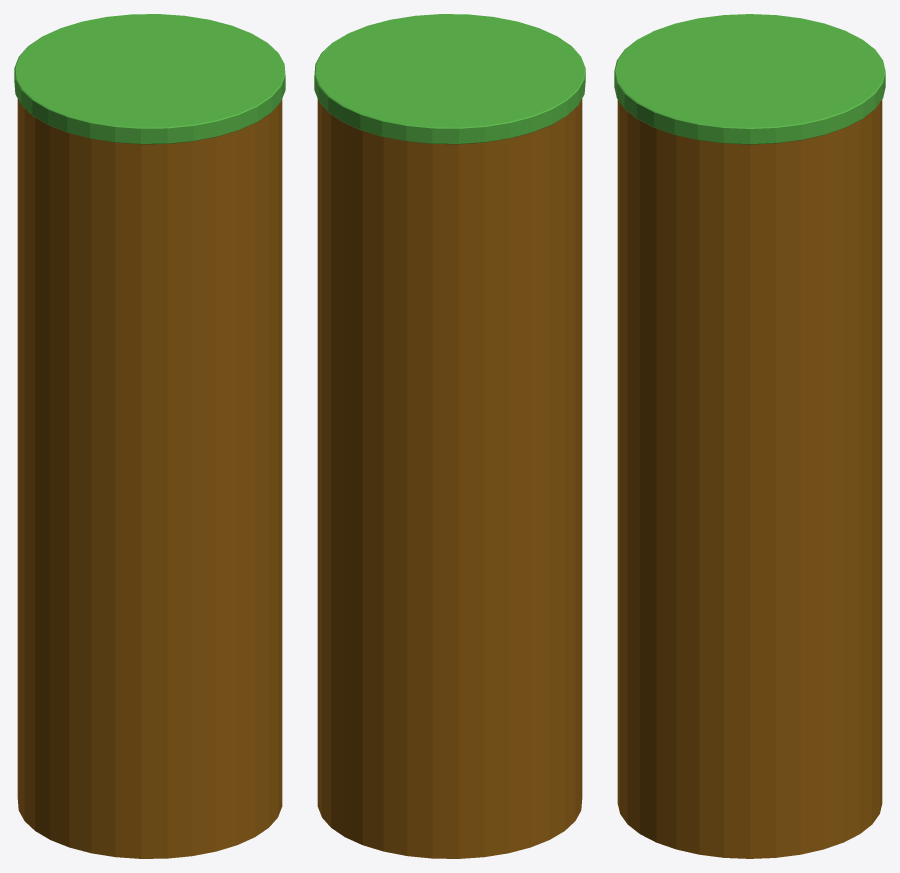
Rendered from Floor Cylinder.fbx.
The picture shows the model from 3 angles, left to right: view 1: azimuth 30°, elevation 25°; view 2: azimuth 150°, elevation 25°; view 3: azimuth 270°, elevation 25°; orthographic projection.
Parts seen in each view (by area): view 1: Floor Cylinder; view 2: Floor Cylinder; view 3: Floor Cylinder.
Boxes of the visible parts, box(x1,y1,x2,y2) form: Floor Cylinder: box(14, 14, 285, 858); Floor Cylinder: box(314, 14, 585, 858); Floor Cylinder: box(614, 14, 885, 858).
Bounding box in the file's own units: 2000 × 5950 × 2000.
